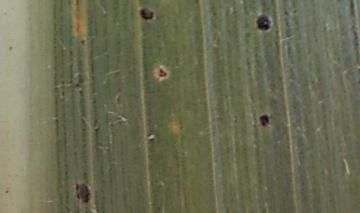tarspot: (75, 182, 91, 203), (256, 13, 272, 32), (138, 7, 155, 20), (258, 114, 270, 127), (158, 68, 168, 78), (79, 38, 87, 47)
